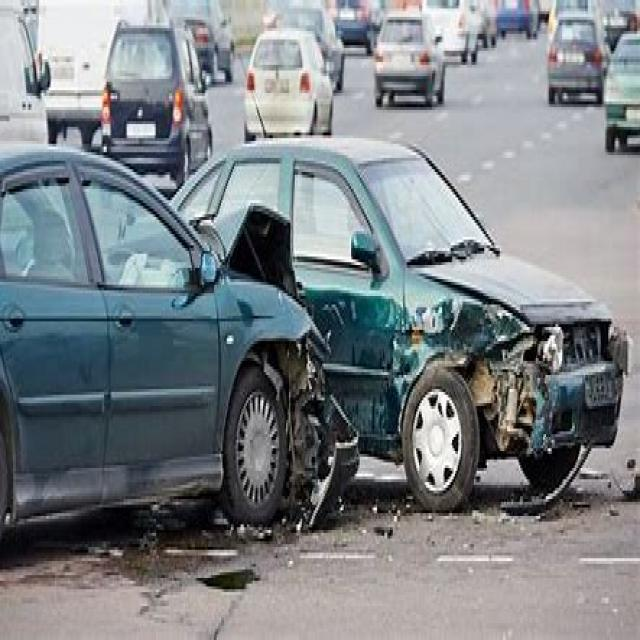Accident: (136, 57, 640, 555)
